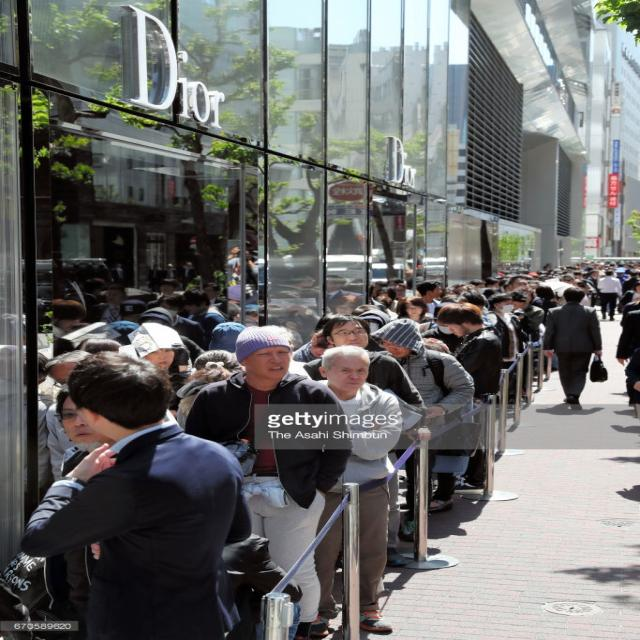body: (16, 350, 252, 640), (168, 324, 353, 640), (0, 297, 108, 635), (308, 343, 406, 638), (97, 282, 241, 422), (299, 313, 433, 443), (420, 301, 509, 496), (367, 316, 476, 432), (243, 259, 444, 319), (541, 286, 610, 406), (482, 290, 538, 418), (442, 263, 571, 294), (597, 268, 624, 321), (615, 309, 640, 366), (538, 399, 612, 417), (574, 256, 640, 276), (624, 350, 640, 426), (292, 332, 336, 359), (225, 236, 244, 284), (443, 292, 482, 309), (430, 319, 456, 342), (622, 270, 640, 296), (574, 274, 602, 288), (622, 278, 639, 294), (624, 299, 640, 310)
